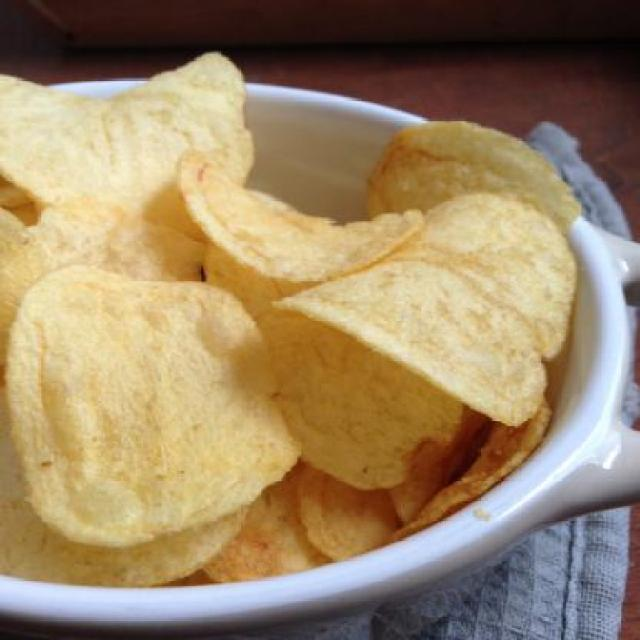Chips packaged: (10, 73, 581, 556)
